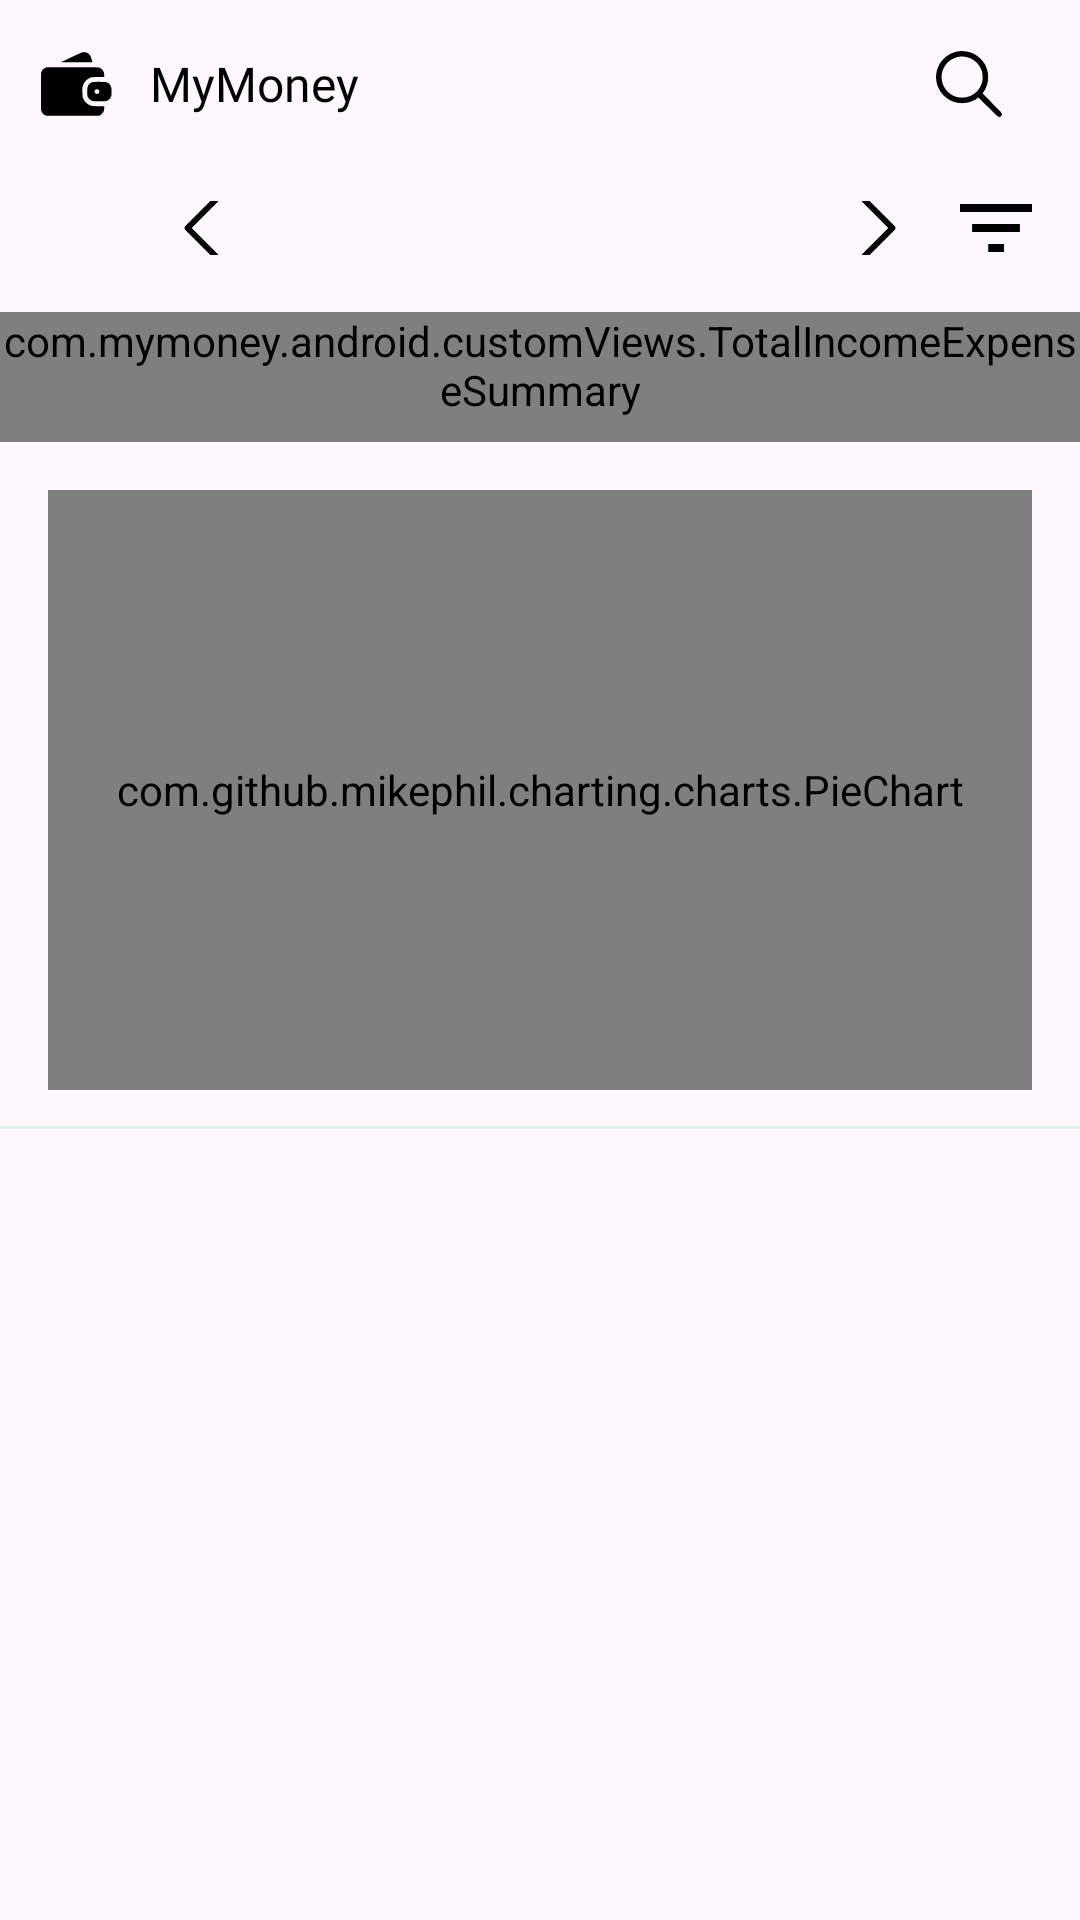

Icon click points for this 1080w x 1920h phone screenshot, format (x,y):
filter: (996,228)
left arrow: (201,228)
right arrow: (878,228)
search: (969,84)
wallet: (76,84)
